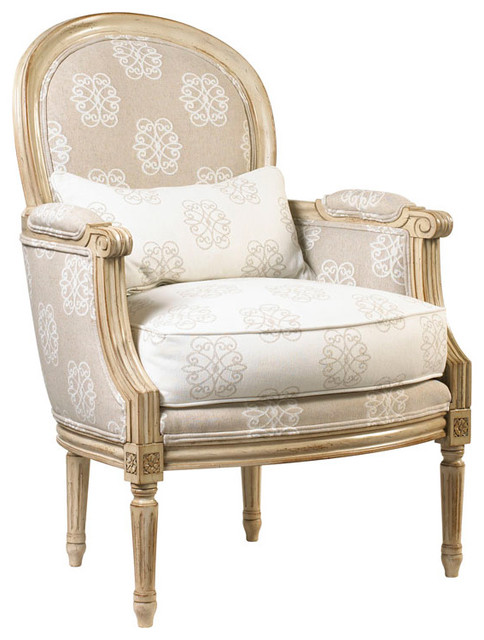chairs: (8, 8, 474, 630)
